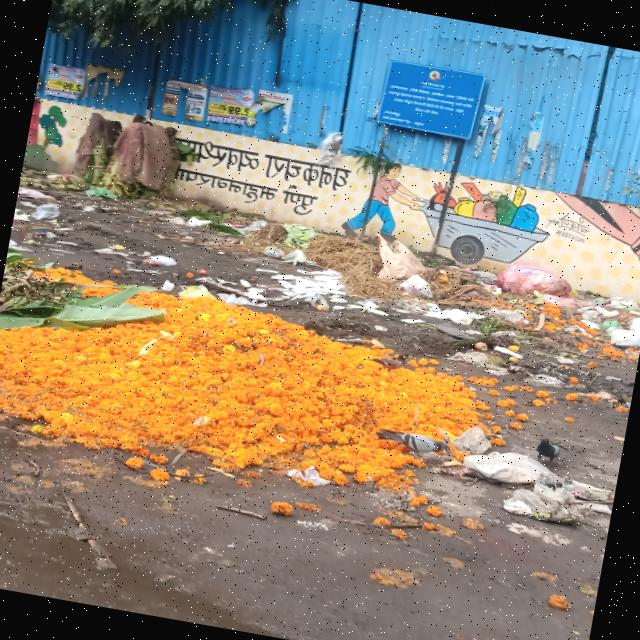garbage: (0, 264, 542, 537), (242, 214, 640, 357), (132, 193, 254, 253), (11, 166, 88, 243)
